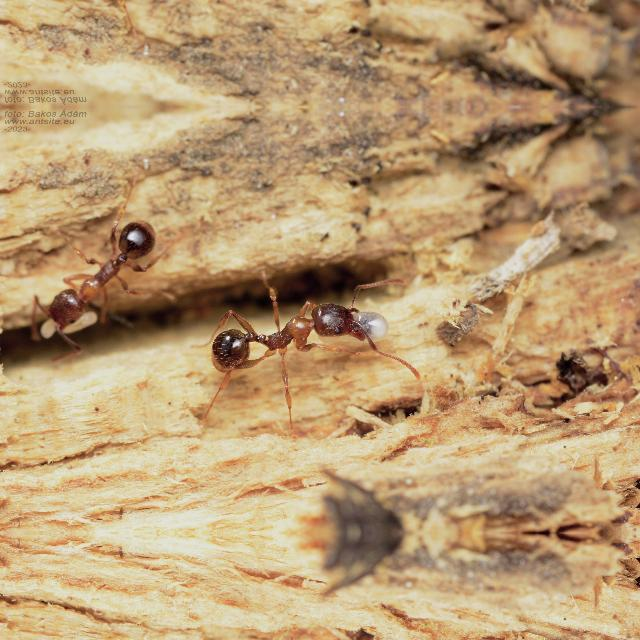Apheanogaster: (7, 203, 181, 347), (186, 282, 390, 383)
